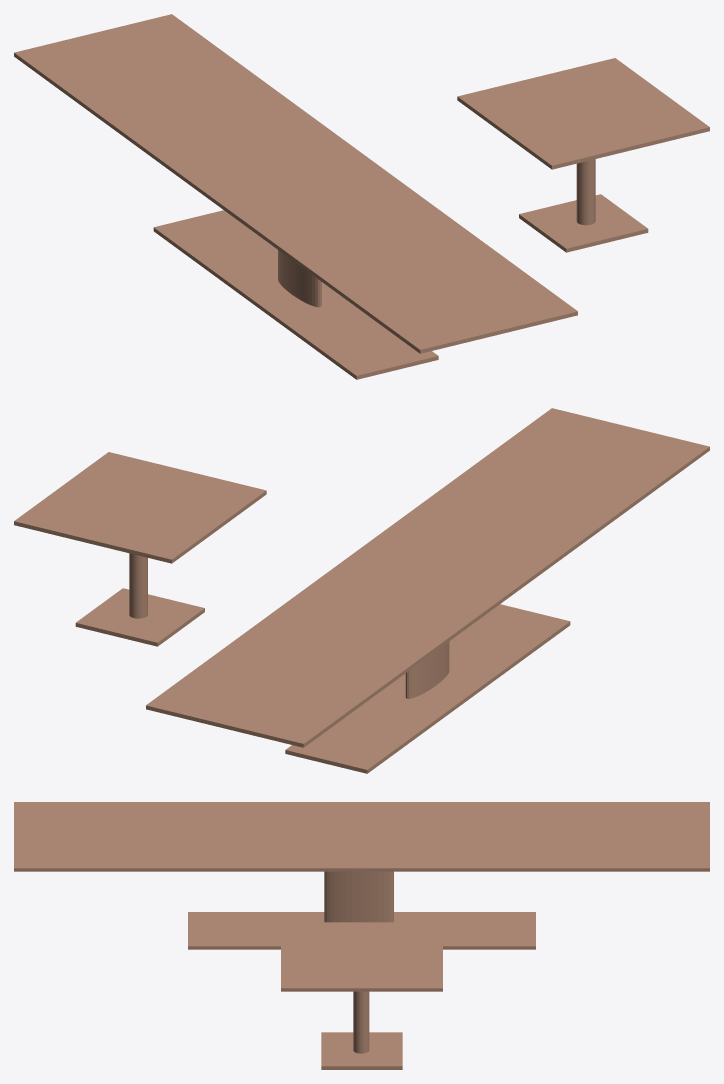
The model's file is ChessRoom.fbx.
3 renders of one model, top to bottom at view 1: azimuth 30°, elevation 25°; view 2: azimuth 150°, elevation 25°; view 3: azimuth 270°, elevation 25°, orthographic. The views are drawn at different scales.
Parts seen in each view (by area): view 1: TableLong, TableShort; view 2: TableLong, TableShort; view 3: TableLong, TableShort.
Part boxes in pixels (x1=…): TableLong: x1=14, y1=14, x2=577, y2=379; TableShort: x1=457, y1=58, x2=709, y2=252; TableLong: x1=146, y1=408, x2=709, y2=773; TableShort: x1=14, y1=452, x2=266, y2=646; TableLong: x1=14, y1=802, x2=709, y2=949; TableShort: x1=281, y1=922, x2=442, y2=1069.
Size of what is drawn, in the model's own units: 5433 by 1323 by 8578.
